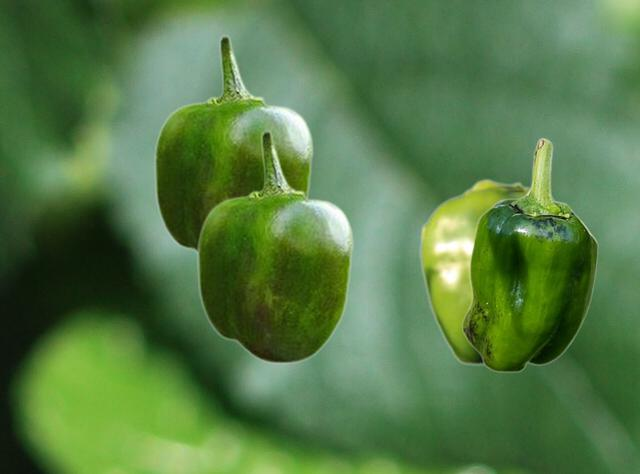bell_pepper: (196, 129, 353, 364), (153, 34, 313, 252), (461, 137, 597, 372), (419, 178, 576, 365)
